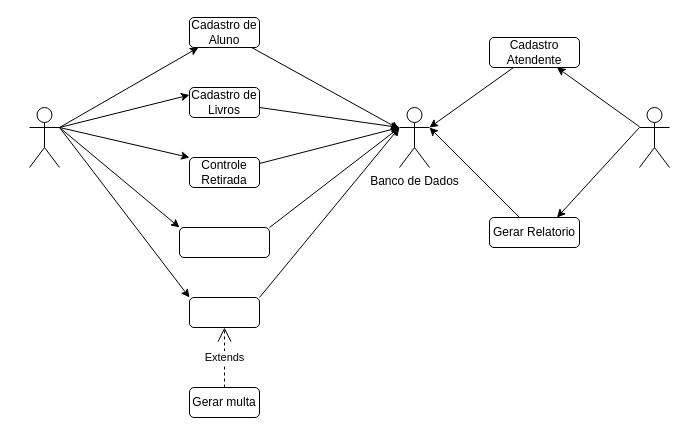
The diagram is 693 pixels wide and 435 high, and some of its shapes have lost their labels. Each missing label, with the centre of its shape:
"Atendente" goes at point 44,137.
"Controle Devolução" goes at point 224,312.
"Gerente" goes at point 654,137.
"Verifica Disponibilidade" goes at point 224,242.
